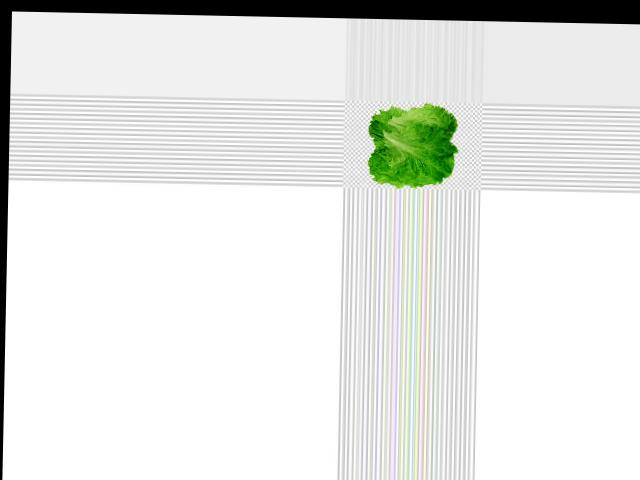lettuce: (361, 100, 464, 190)
